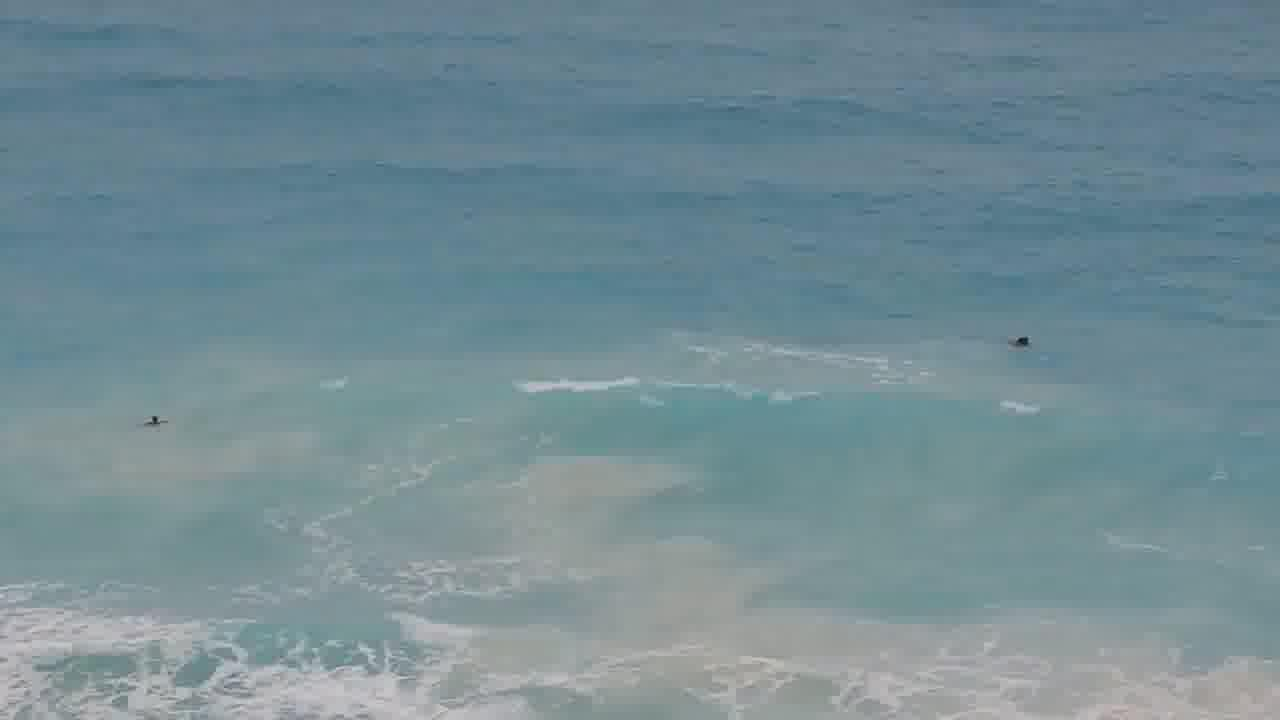swimmer: (1002, 327, 1047, 357), (132, 408, 179, 429)
